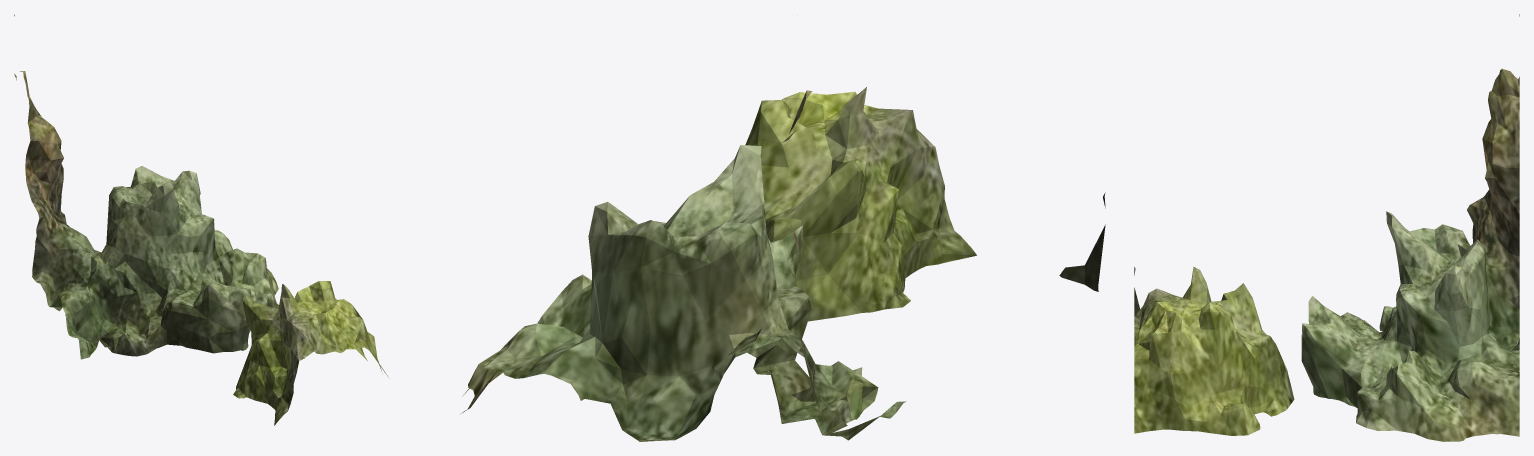
3 renders of one model, left to right at view 1: azimuth 30°, elevation 25°; view 2: azimuth 150°, elevation 25°; view 3: azimuth 270°, elevation 25°, orthographic. The views are drawn at different scales.
Size of the model in its own units: 4.2 by 5.27 by 5.9.
Materials: 3 (3 with a texture image).
